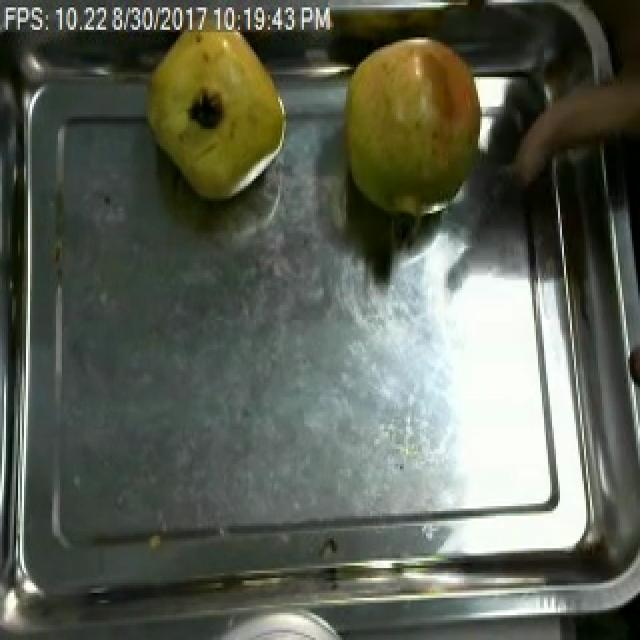fruit: (330, 27, 498, 243), (136, 15, 294, 203)
